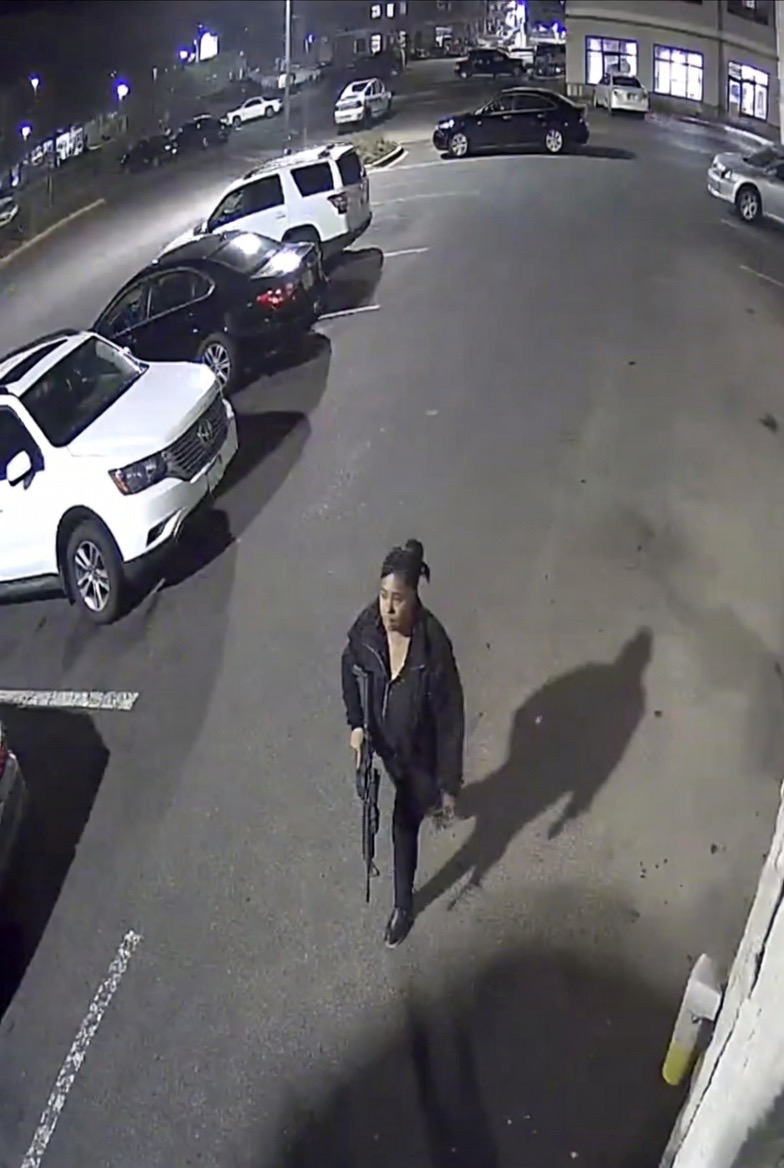person: (340, 538, 467, 949)
weapon: (354, 733, 382, 904)
